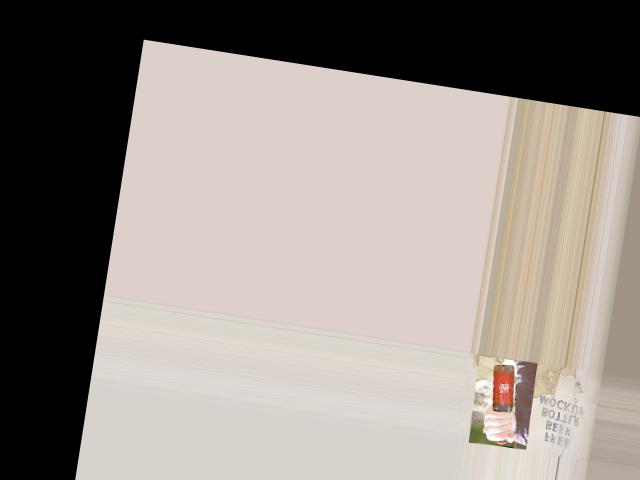beer: (482, 362, 519, 444)
